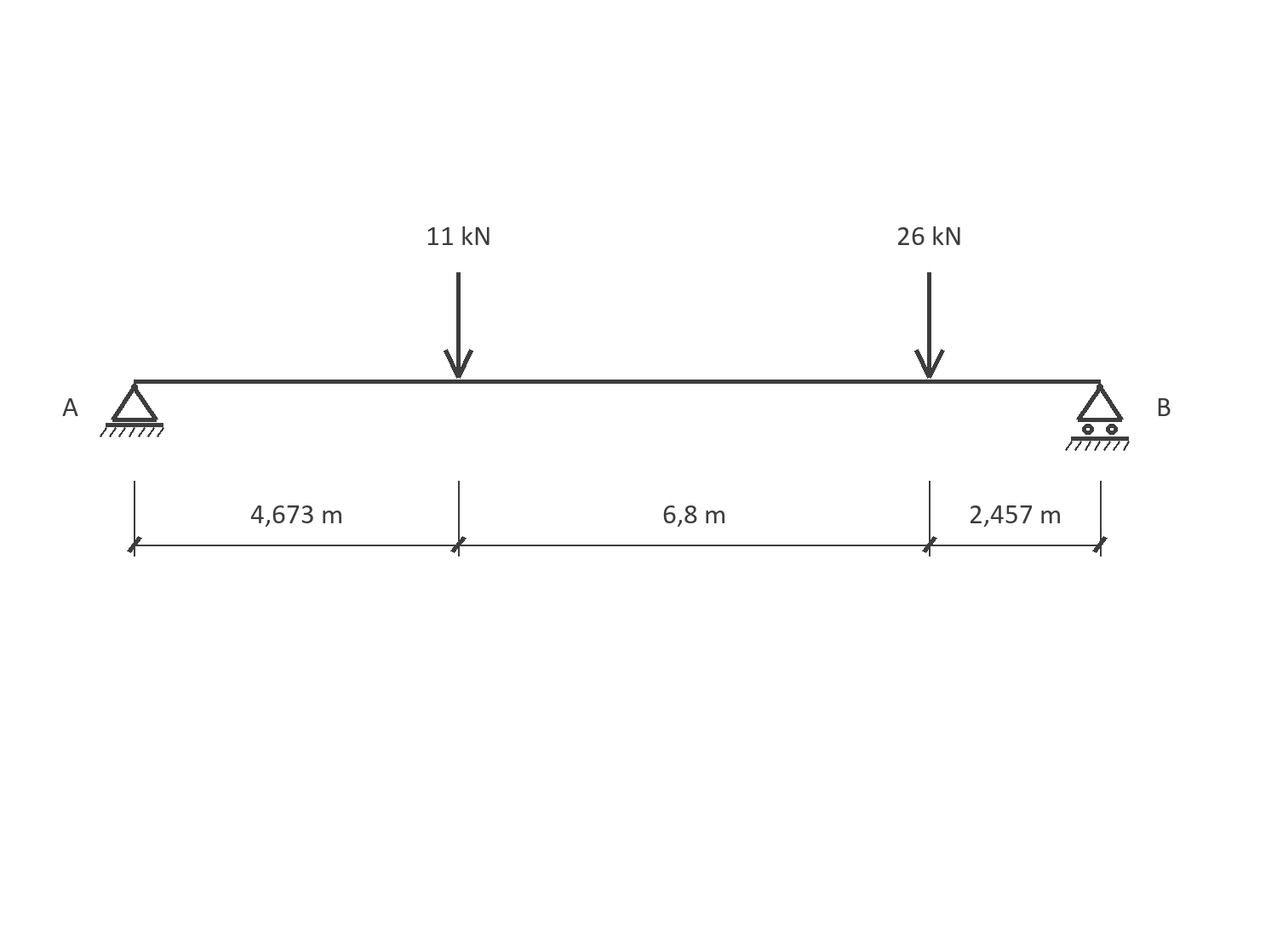pin_support: (100, 384, 164, 437)
point_load: (914, 272, 945, 379), (444, 272, 473, 379)
roller_support: (1065, 384, 1130, 451)
